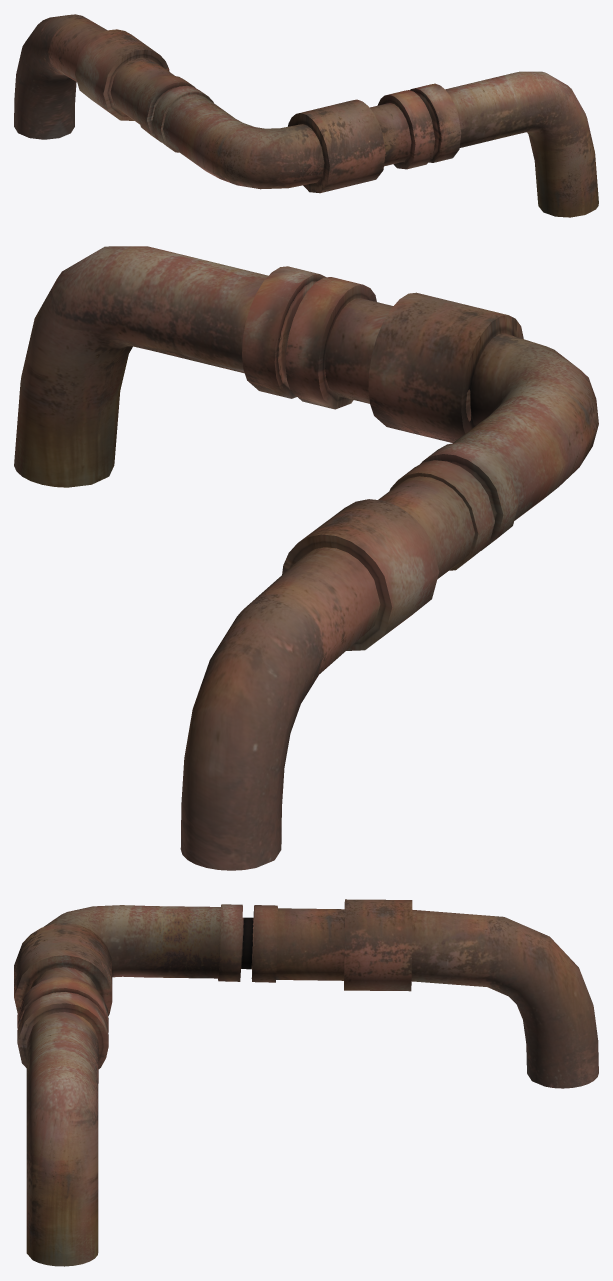
The model's file is Pipe.obj.
The picture shows the model from 3 angles, top to bottom: view 1: azimuth 30°, elevation 25°; view 2: azimuth 150°, elevation 25°; view 3: azimuth 270°, elevation 25°; orthographic projection. The views are drawn at different scales.
Parts seen in each view (by area): view 1: Pipe; view 2: Pipe; view 3: Pipe.
Boxes of the visible parts, left/top/right/bottom form: Pipe: left=14, top=14, right=598, bottom=217; Pipe: left=14, top=246, right=598, bottom=870; Pipe: left=14, top=899, right=598, bottom=1266.
Size of the model in its own units: 3.66 by 1.44 by 4.21.
